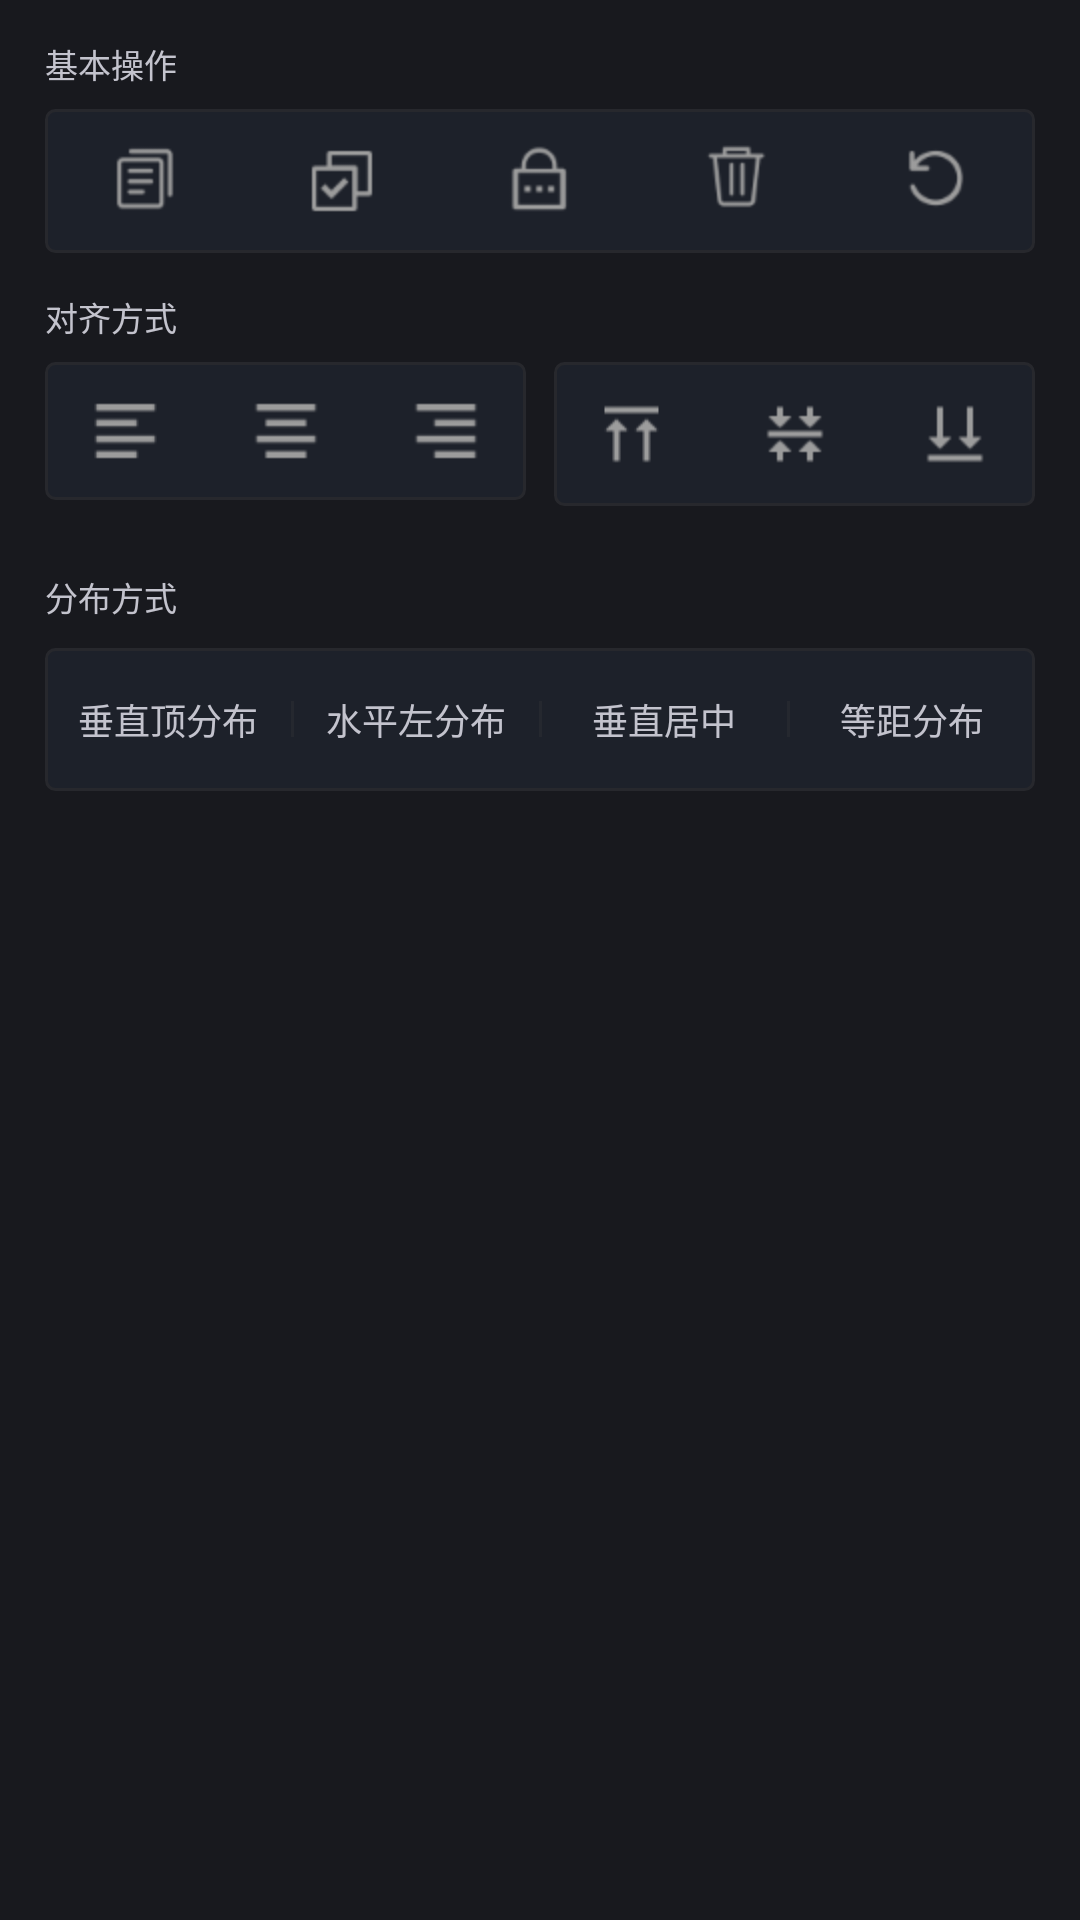

Icon click points for this 1080px×1920px phone screenshot, format point (x, y):
edit func ope delete: point (736, 176)
edit func ope lock: point (539, 178)
edit func ope rotate: point (936, 178)
